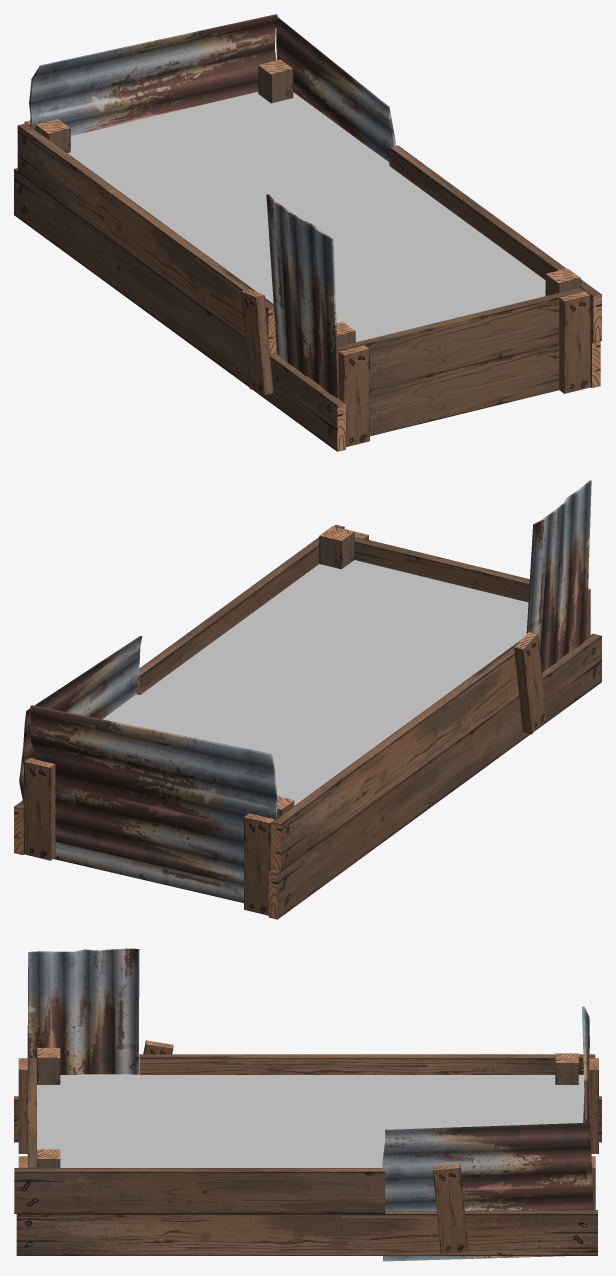
The model's file is raisedBed05.fbx.
3 views of the same model, one above another, from view 1: azimuth 30°, elevation 25°; view 2: azimuth 150°, elevation 25°; view 3: azimuth 270°, elevation 25° (orthographic). The views are drawn at different scales.
Parts seen in each view (by area): view 1: raisedBed05; view 2: raisedBed05; view 3: raisedBed05.
Boxes of the visible parts, x1,y1,x2,y2 form: raisedBed05: [14, 14, 601, 451]; raisedBed05: [14, 480, 601, 919]; raisedBed05: [14, 948, 601, 1261].
Bounding box in the file's own units: 160 × 116 × 317.
